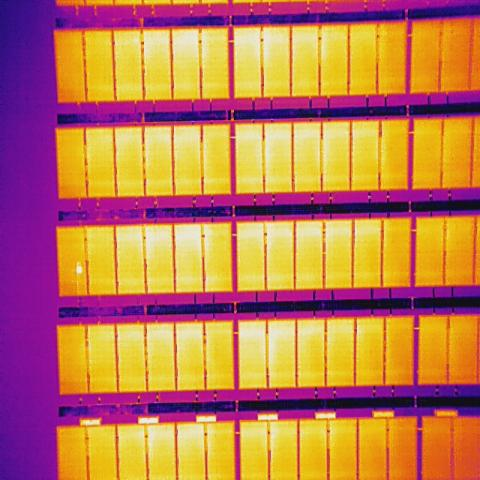fault: (75, 262, 83, 276)
